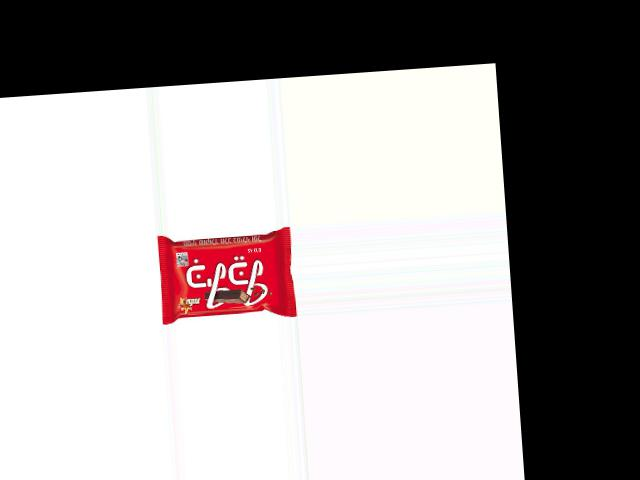chocolate: (157, 225, 295, 325)
